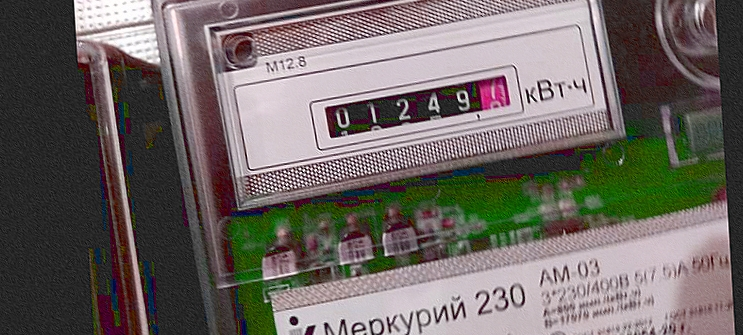0: (330, 101, 351, 128)
1: (362, 98, 378, 124)
2: (392, 94, 413, 121)
4: (423, 86, 443, 114)
7: (483, 75, 499, 100)
9: (452, 84, 472, 111)
screen: (301, 65, 538, 153)
